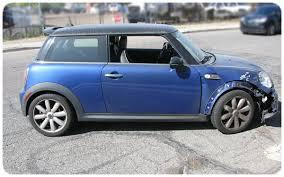fender-dent: (207, 69, 268, 96)
